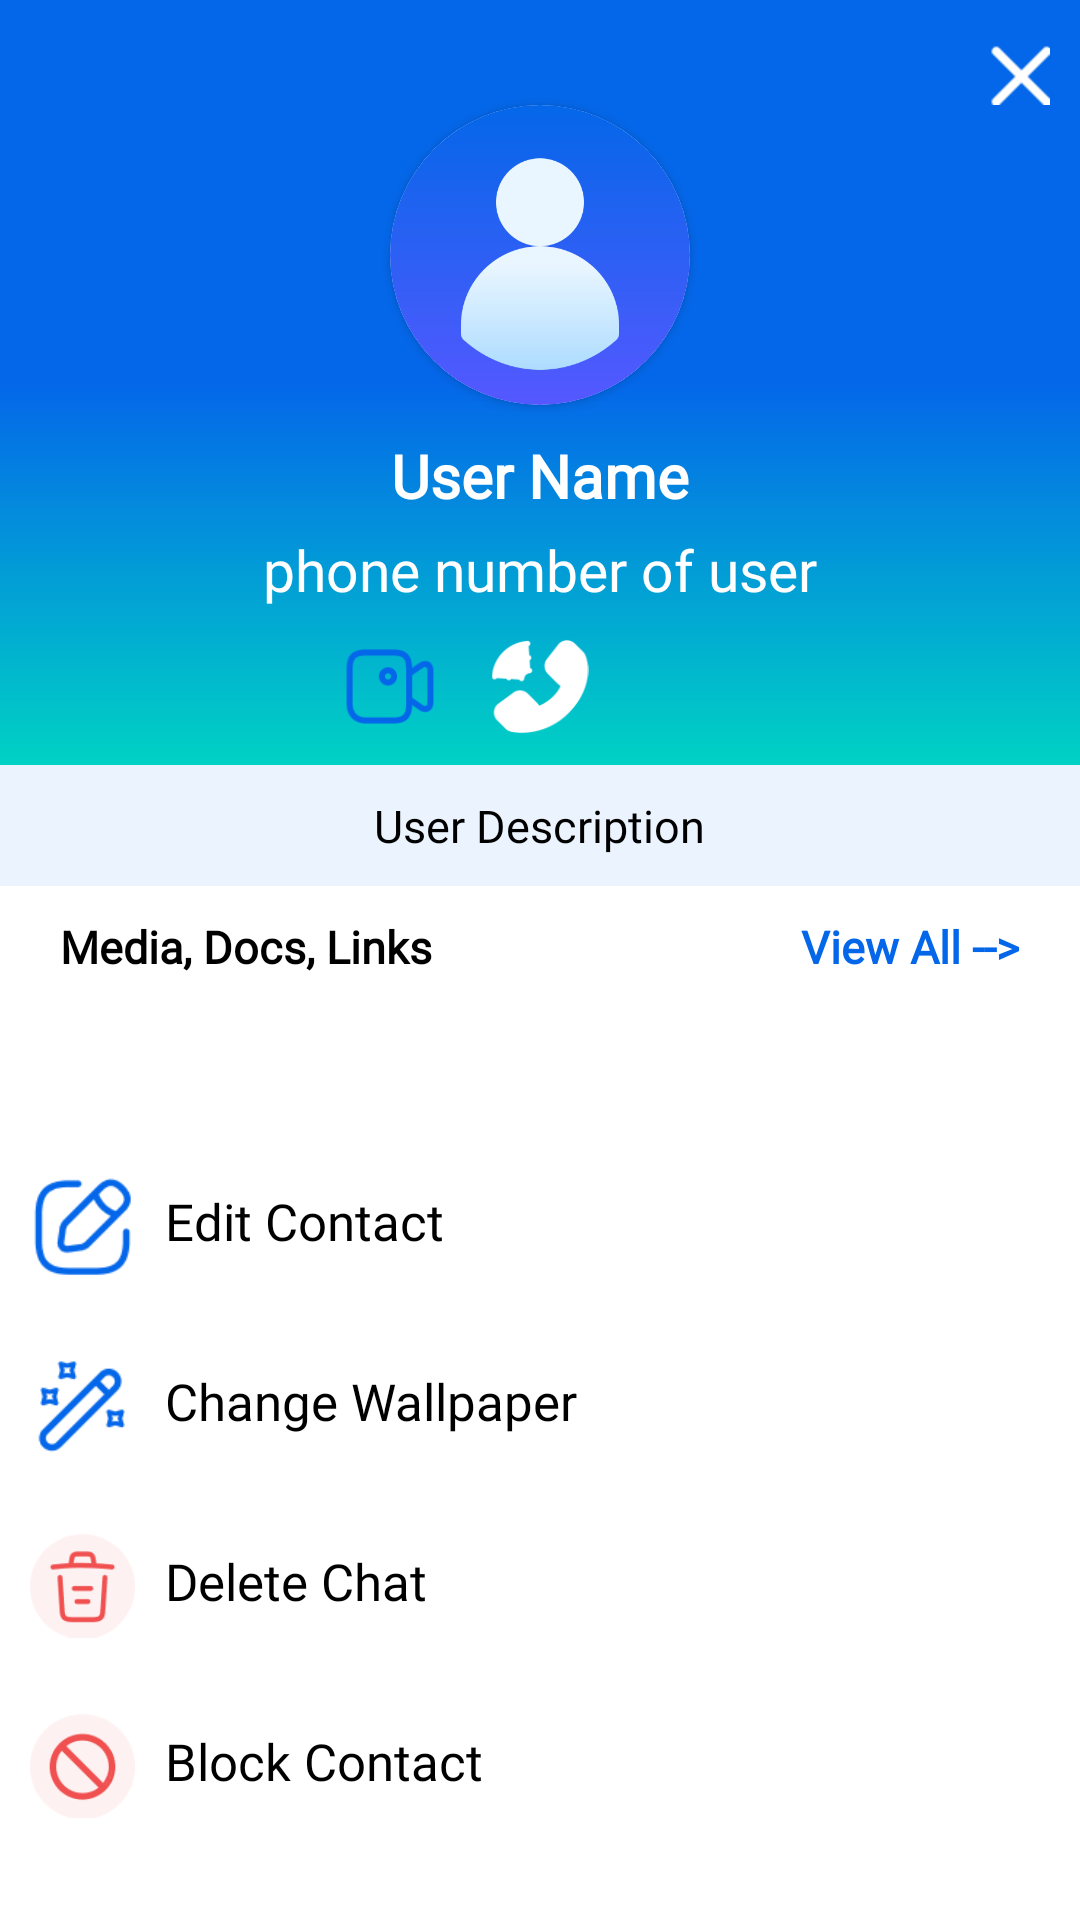

Screen size 1080 x 1920. Icon name, then its center in pixels as (x,y):
call: (540,686)
closeprofile: (1020,75)
defaultprofilepic: (540,255)
videocall: (390,681)
